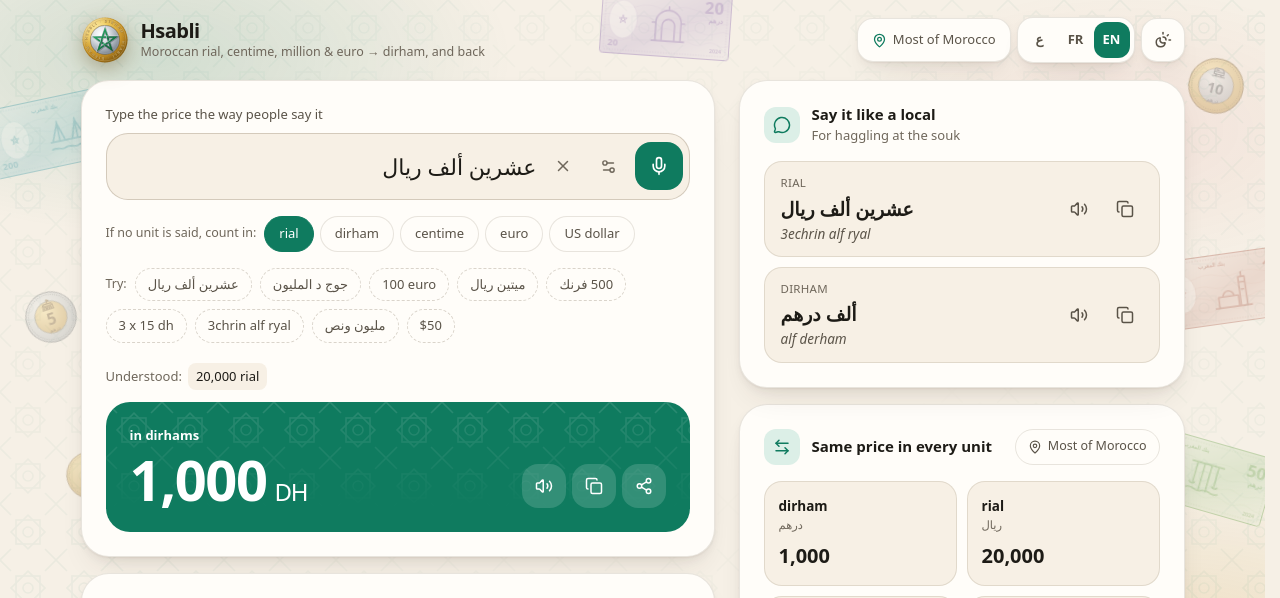
Test: App › explains when it cannot understand the input
This screenshot has width=1280, height=598.
Clear the field at (330, 166), box [122,140,536,192]
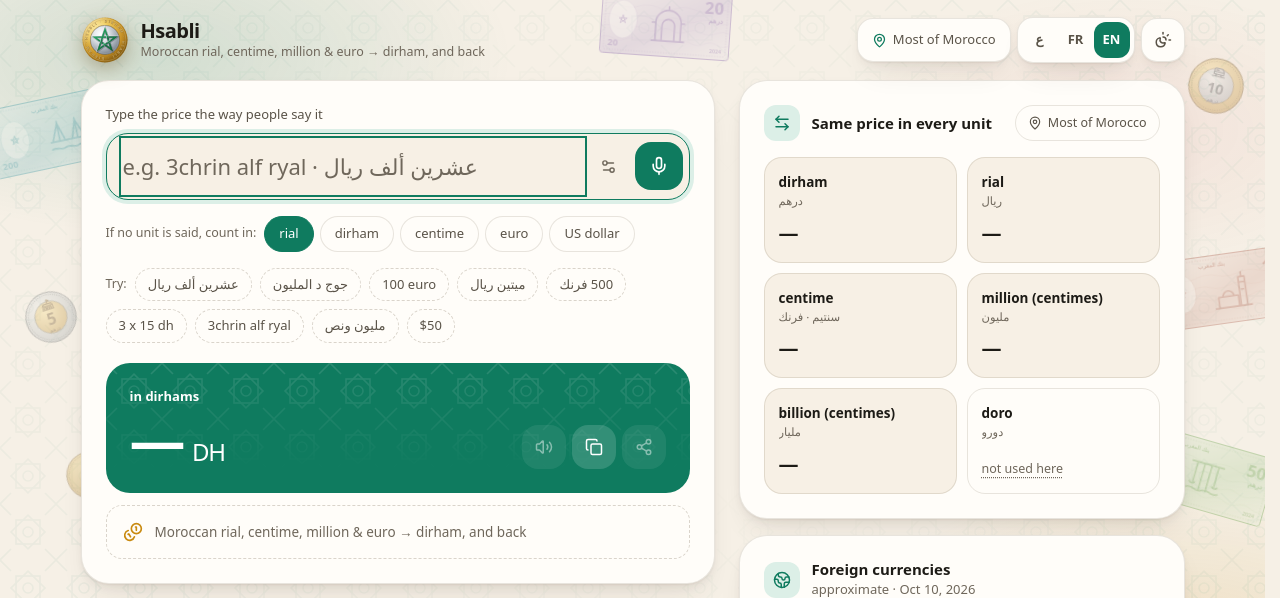
Type "salam" into the field at (352, 166), box [122,140,582,192]
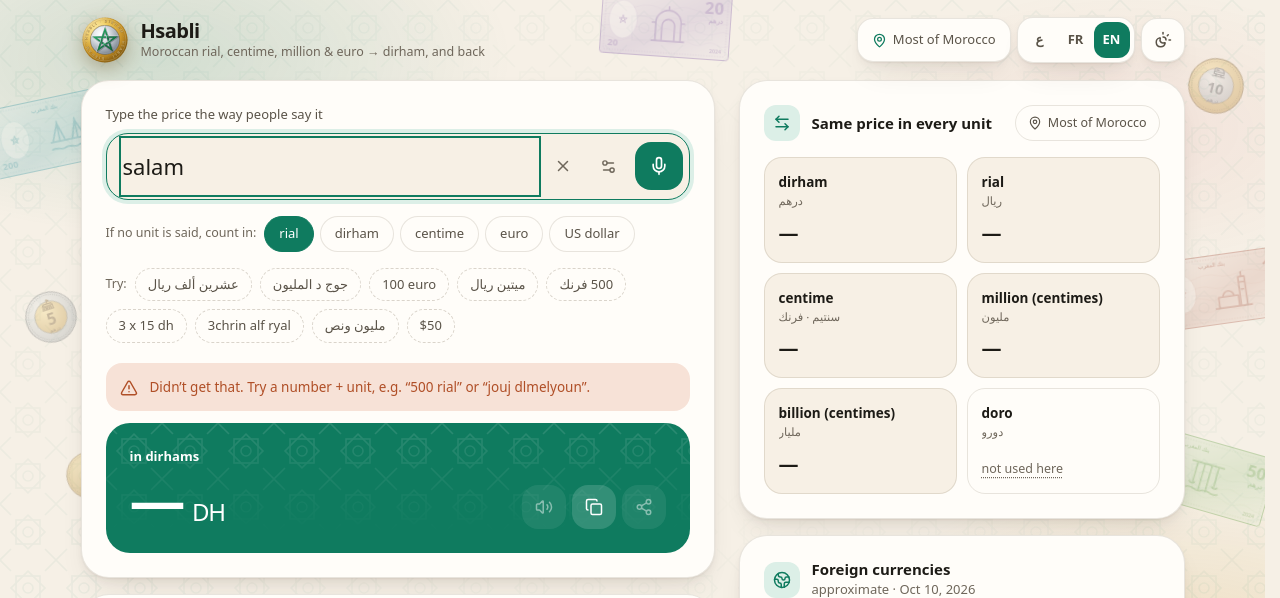
Expected: the message shows "Didn’t get that", [150,378,590,396]
